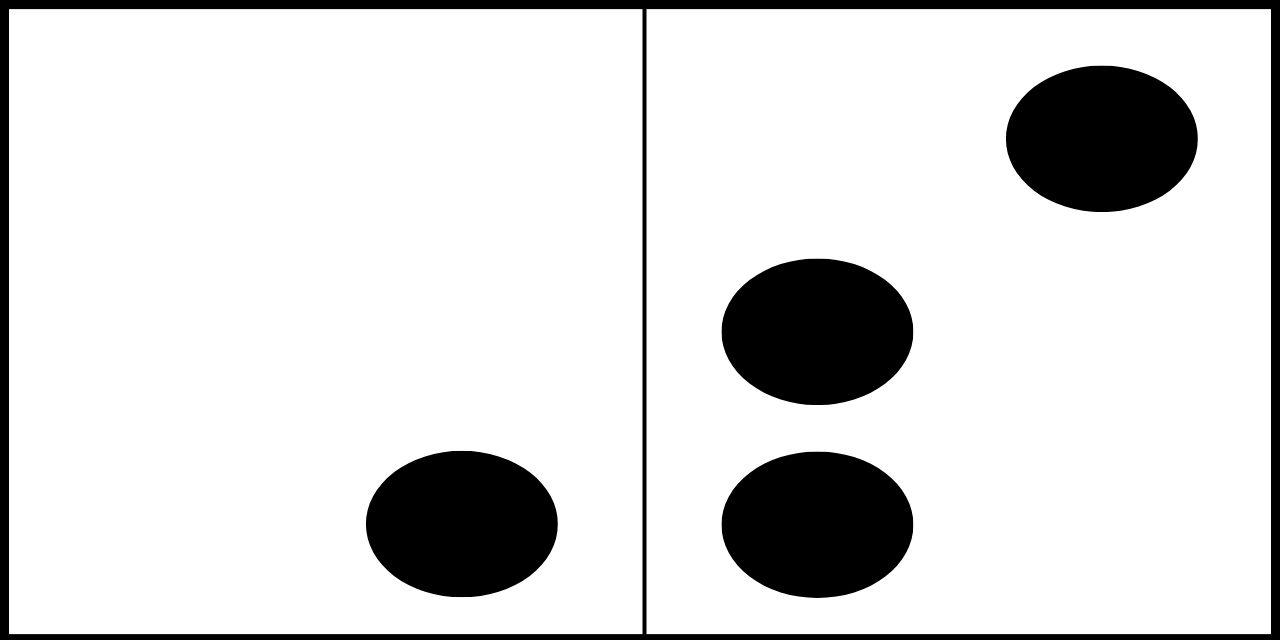S: (719, 66, 1197, 597)
capital: (163, 66, 558, 598)
